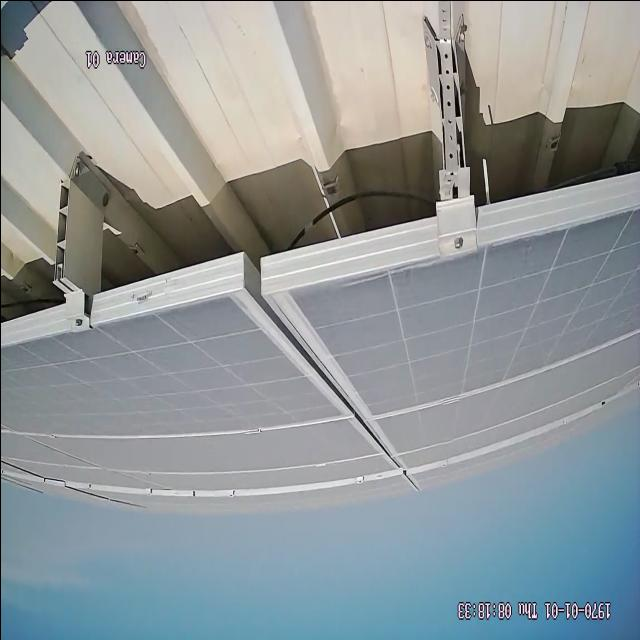interior panel: (232, 291, 402, 463)
outher panel: (0, 0, 640, 351)
